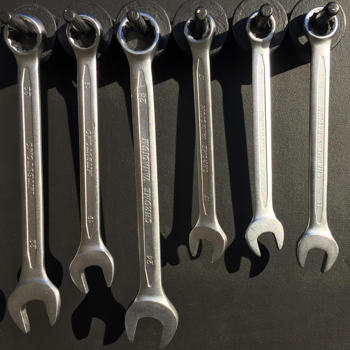bottom: (122, 293, 179, 350), (5, 278, 63, 334), (66, 245, 116, 294), (294, 225, 339, 274), (186, 218, 229, 264), (243, 214, 286, 258)
top: (1, 13, 49, 62), (114, 10, 163, 58), (63, 14, 105, 54), (302, 4, 340, 44), (182, 10, 218, 47), (244, 8, 278, 45)
